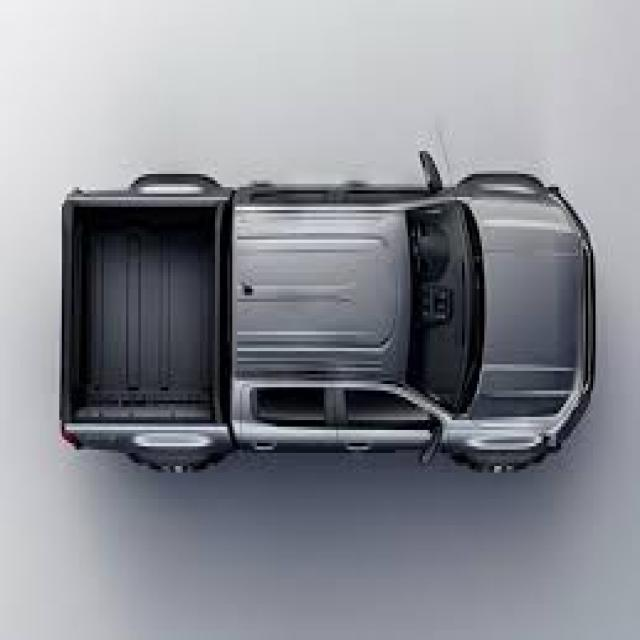truck: (60, 166, 608, 476)
